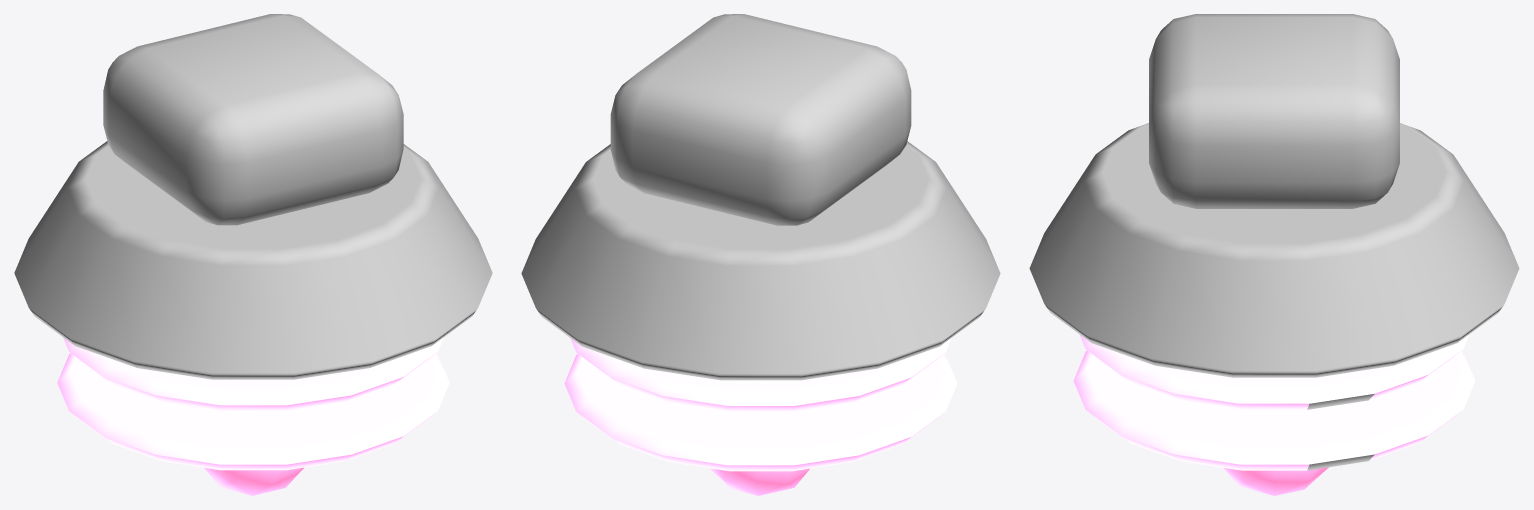
File: Utility_Shield.fbx
3 renders of one model, left to right at view 1: azimuth 30°, elevation 25°; view 2: azimuth 150°, elevation 25°; view 3: azimuth 270°, elevation 25°, orthographic. The views are drawn at different scales.
Parts seen in each view (by area): view 1: Utility_Shield; view 2: Utility_Shield; view 3: Utility_Shield.
Boxes of the visible parts, <box> form: Utility_Shield: <box>14,14,492,495</box>; Utility_Shield: <box>521,14,1000,495</box>; Utility_Shield: <box>1029,14,1519,495</box>.
Bounding box in the file's own units: 0.5762 × 0.58 × 0.5851.
